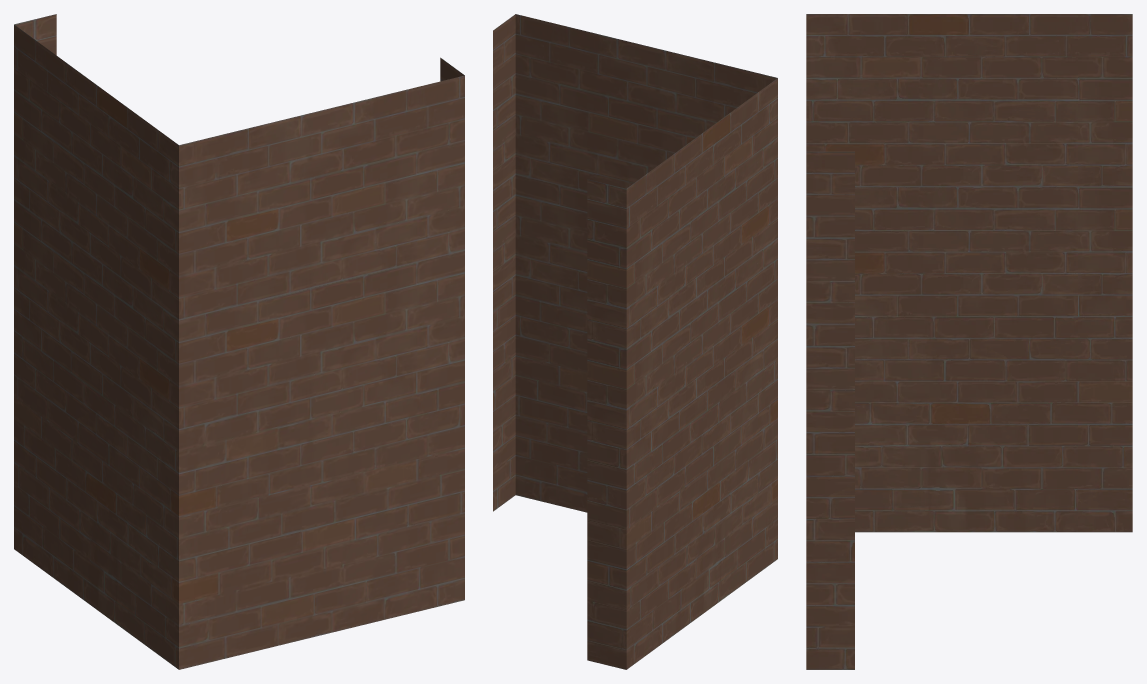
The model's file is Brick_CornerColumn_Center_Half.glb.
3 views of the same model, side by side, from view 1: azimuth 30°, elevation 25°; view 2: azimuth 150°, elevation 25°; view 3: azimuth 270°, elevation 25° (orthographic). The views are drawn at different scales.
Visible parts, largest first — view 1: Brick_CornerColumn_Center_Half; view 2: Brick_CornerColumn_Center_Half; view 3: Brick_CornerColumn_Center_Half.
Part boxes in pixels (x1=…): Brick_CornerColumn_Center_Half: x1=14, y1=14, x2=464, y2=669; Brick_CornerColumn_Center_Half: x1=493, y1=14, x2=777, y2=669; Brick_CornerColumn_Center_Half: x1=806, y1=14, x2=1132, y2=669.
Bounding box in the file's own units: 1.14 × 2 × 1.14.
1 material, 1 textured.
